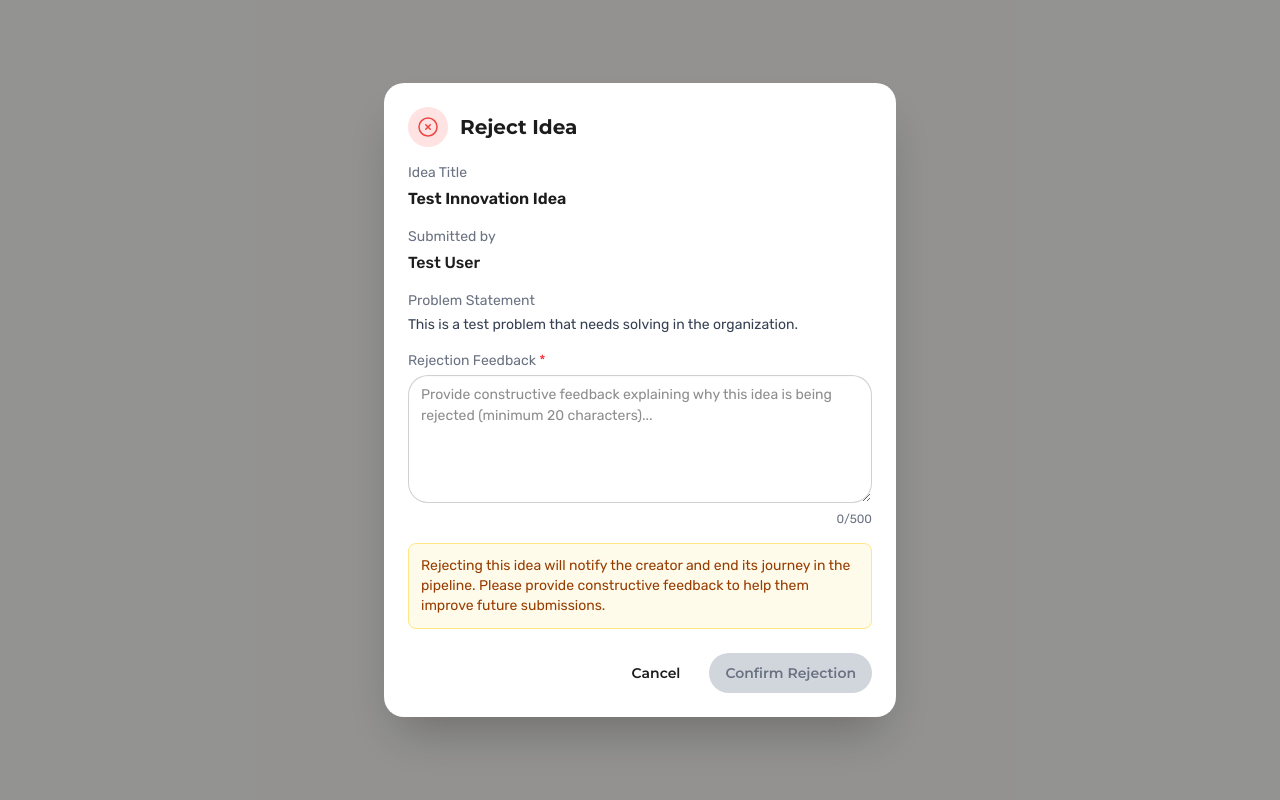
Test: RejectIdeaModal - Story 5.5 Task 4 › Subtask 4.7: Validation › enables submit button when feedback meets minimum length
In the text box labelled "Rejection Feedback *": point(640, 439) x1=408 y1=375 x2=872 y2=503, type "This feedback is long enough to meet the minimum requirement."
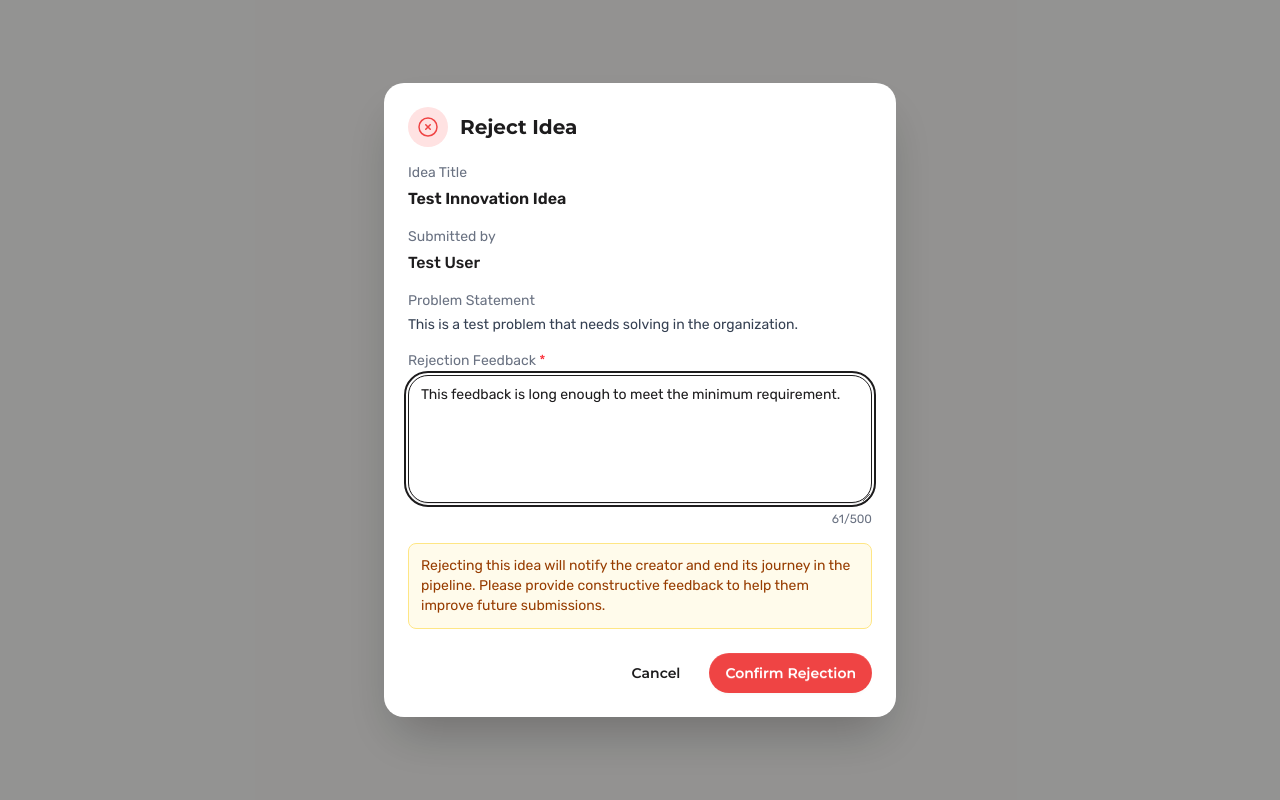
Now the button "Confirm Rejection" is enabled, box x1=709 y1=653 x2=872 y2=693
